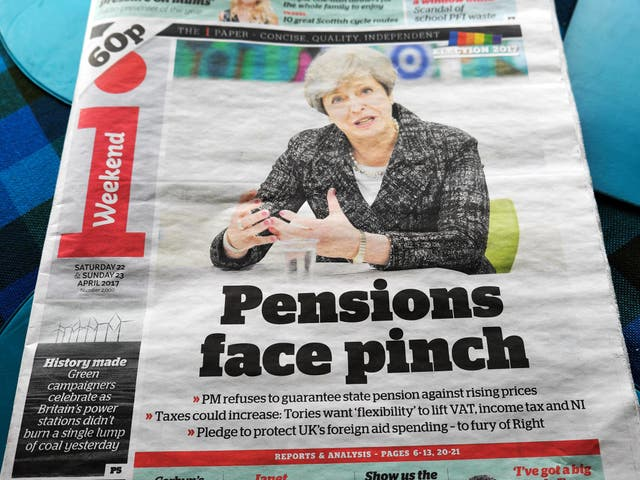news_paper: (1, 1, 622, 480)
